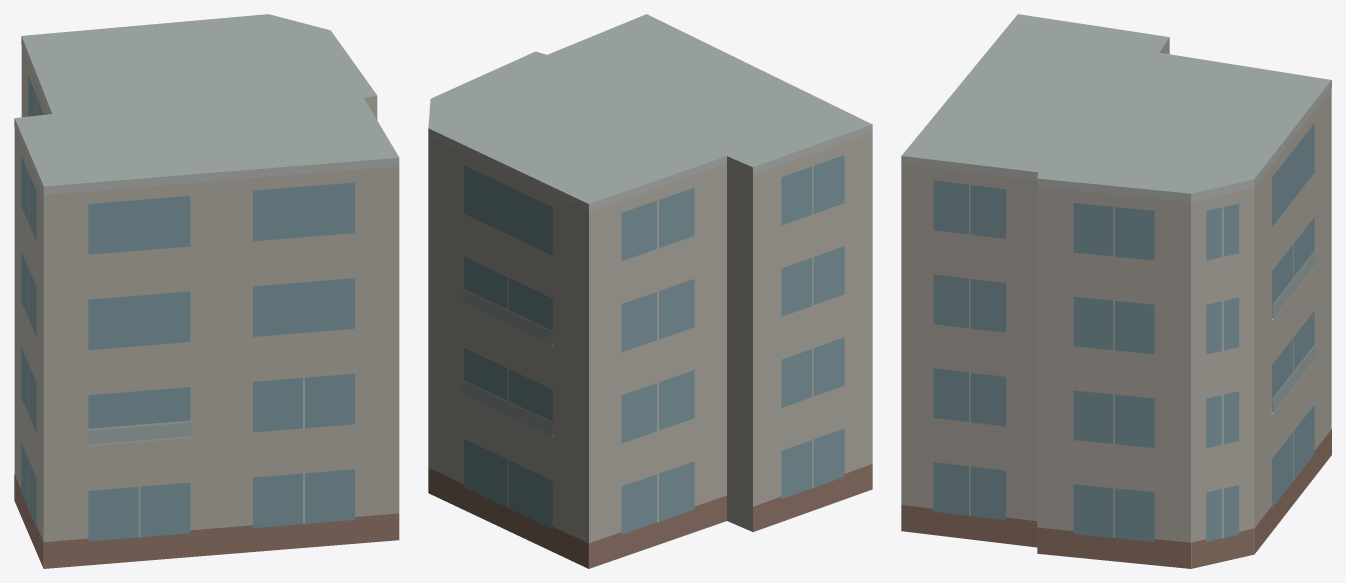
Rendered from survey-upis-33043307.glb.
3 renders of one model, left to right at view 1: azimuth 30°, elevation 25°; view 2: azimuth 150°, elevation 25°; view 3: azimuth 270°, elevation 25°, orthographic. The views are drawn at different scales.
Parts seen in each view (by area): view 1: survey-upis-33043307.tmp; view 2: survey-upis-33043307.tmp; view 3: survey-upis-33043307.tmp.
Boxes of the visible parts, x1=… form: survey-upis-33043307.tmp: x1=14, y1=14, x2=399, y2=568; survey-upis-33043307.tmp: x1=428, y1=14, x2=872, y2=568; survey-upis-33043307.tmp: x1=901, y1=14, x2=1331, y2=568.
Size of the model in its own units: 11.2 by 10.9 by 11.34.
